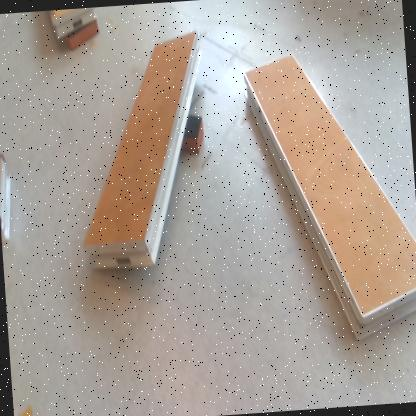Stairs: (245, 52, 416, 342), (84, 30, 204, 272), (49, 9, 96, 45), (1, 154, 12, 248)
